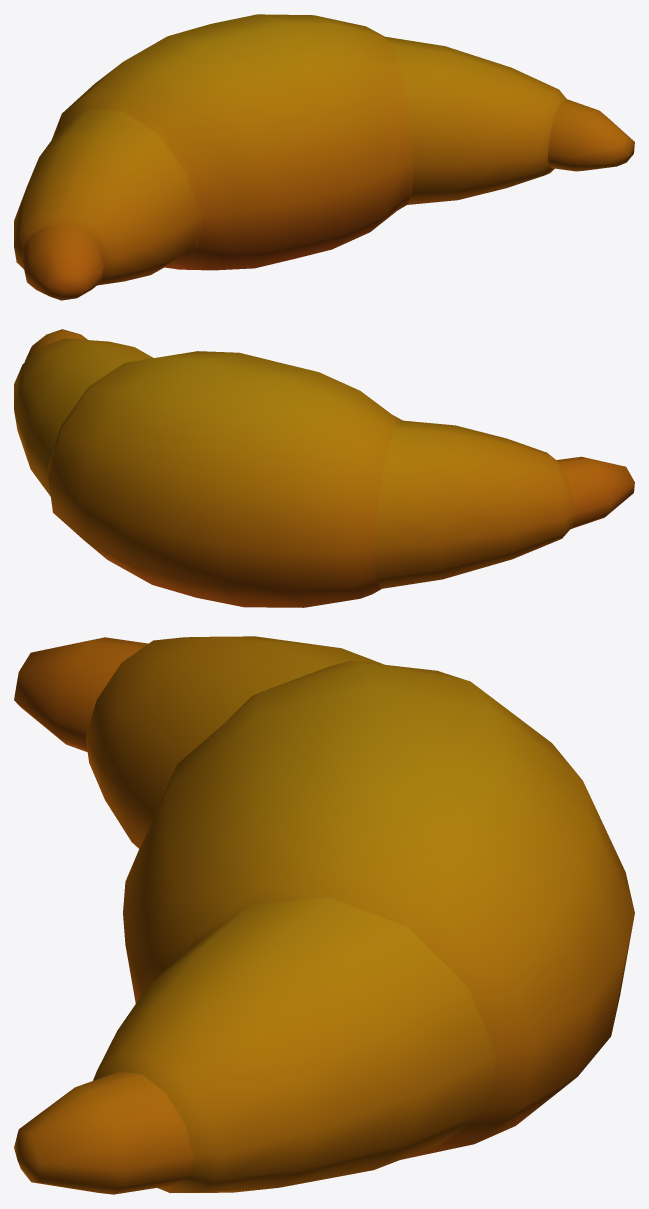
Rendered from Croissant_001.glb.
3 renders of one model, top to bottom at view 1: azimuth 30°, elevation 25°; view 2: azimuth 150°, elevation 25°; view 3: azimuth 270°, elevation 25°, orthographic. The views are drawn at different scales.
Visible parts, largest first — view 1: geometry_0; view 2: geometry_0; view 3: geometry_0.
Boxes of the visible parts, x1,y1,x2,y2 form: geometry_0: (14, 14, 634, 300); geometry_0: (14, 329, 634, 607); geometry_0: (14, 636, 634, 1194).
Bounding box in the file's own units: 0.1494 × 0.0508 × 0.0781.
1 material, 1 textured.
